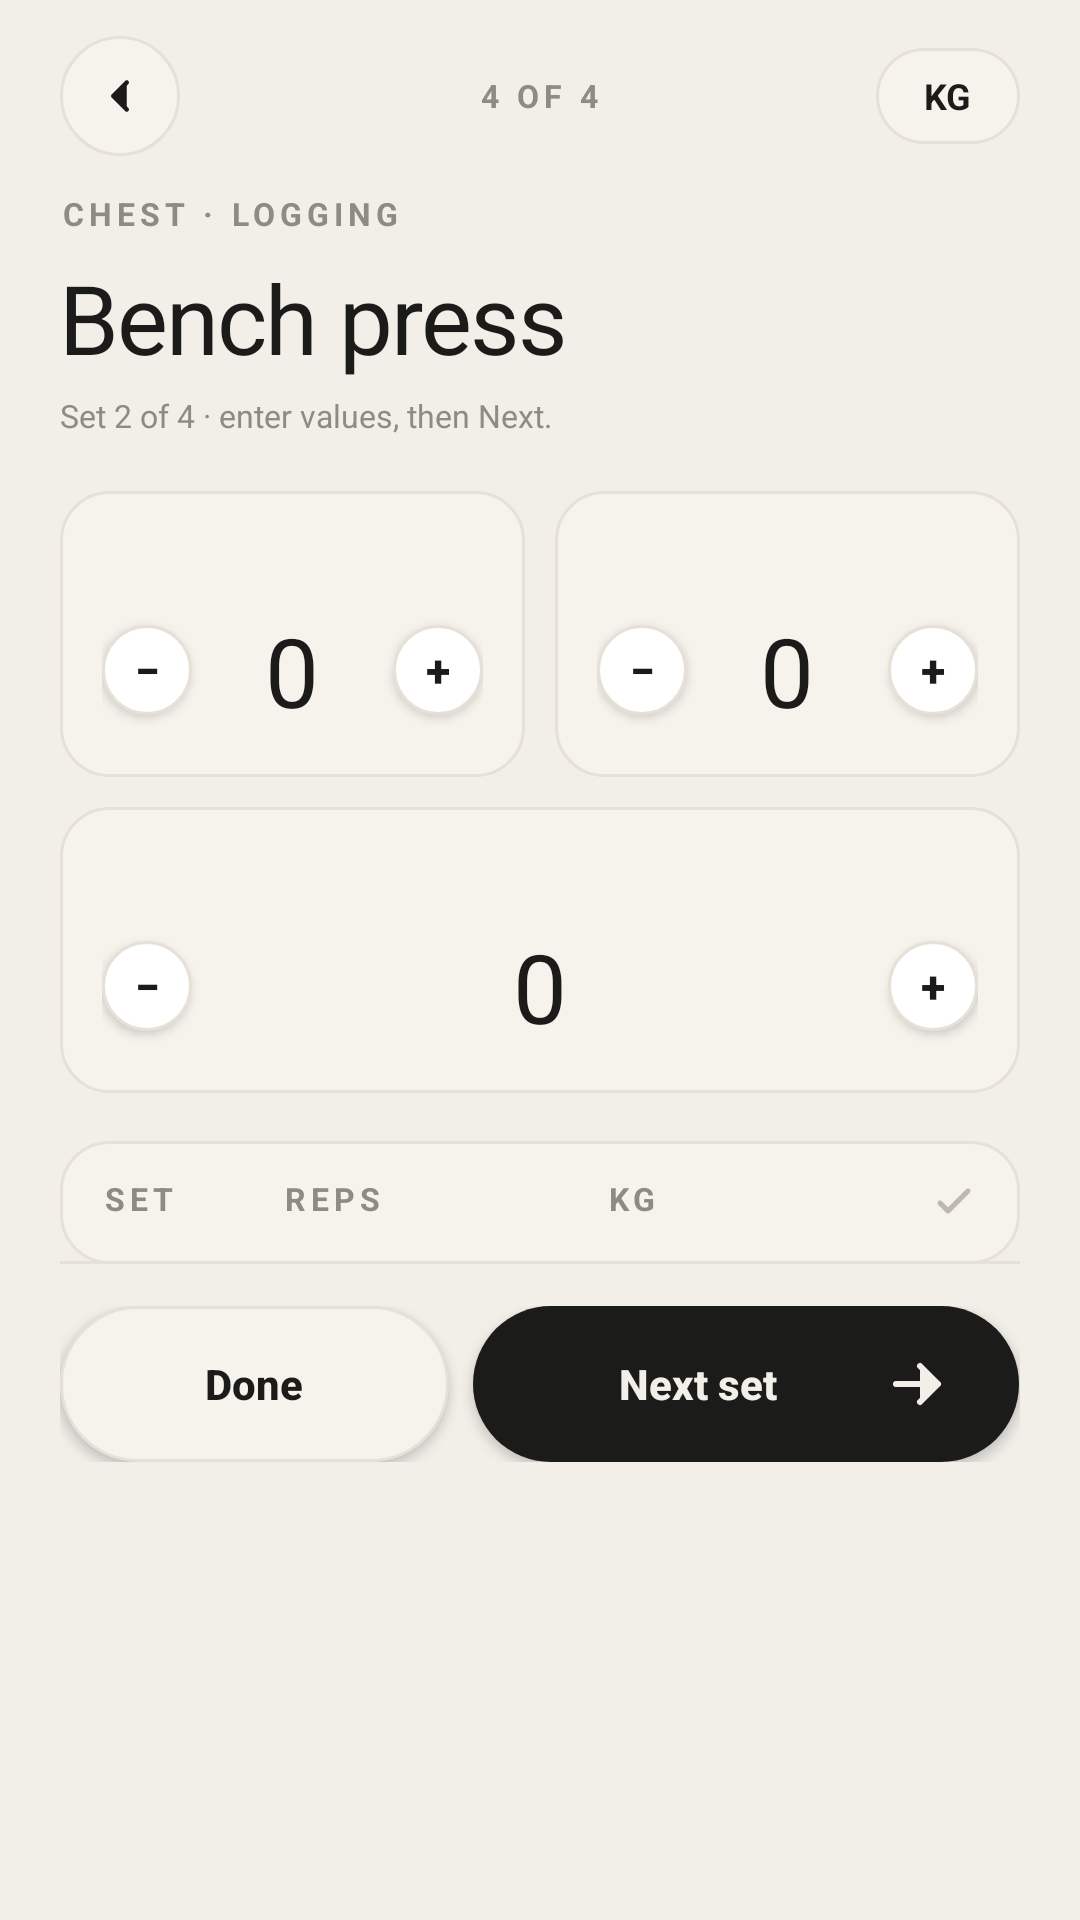

Locate icon controls on the screen. Image size 1080px x 1920px, boxes as BBox(x1, y1, x2, y2).
Back: BBox(111, 80, 129, 112)
check: BBox(938, 1188, 970, 1214)
